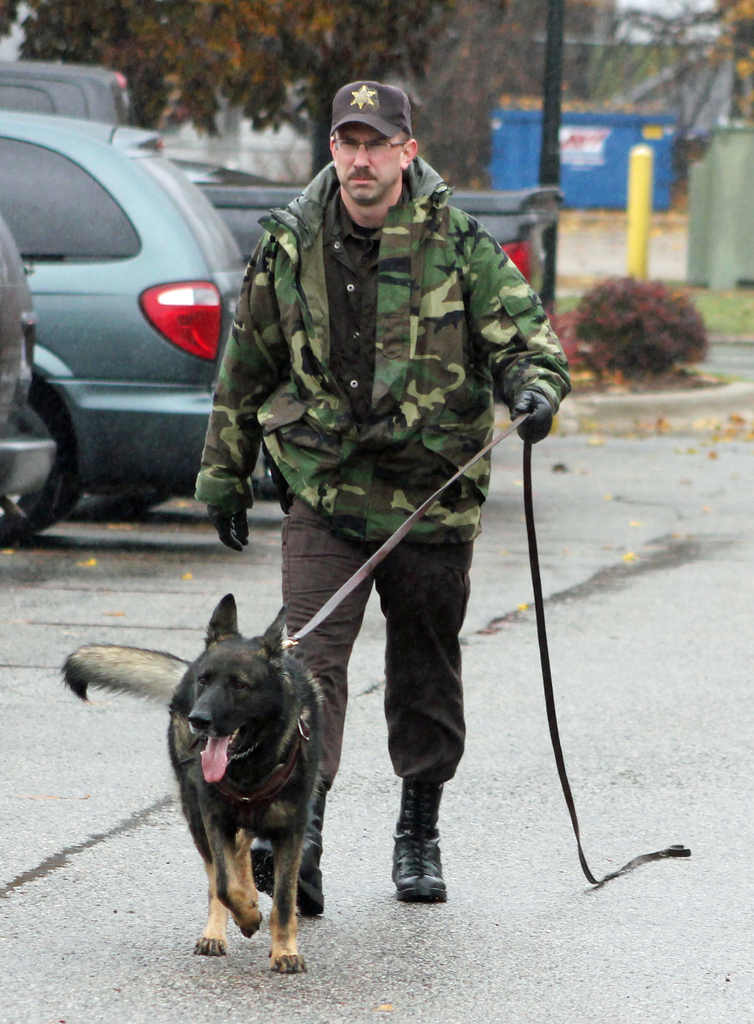Person: (193, 81, 573, 914)
